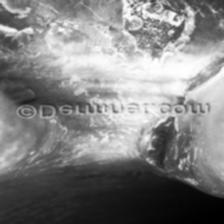Toxin: (108, 0, 192, 70), (140, 117, 198, 185)
